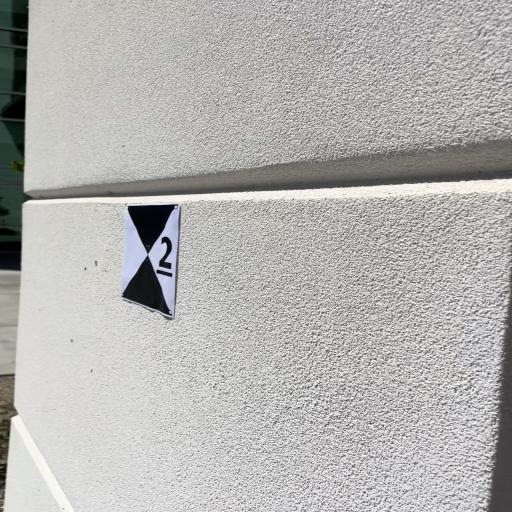target2: (117, 203, 181, 318)
